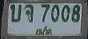txt06: (24, 4, 34, 23)
txt21: (9, 4, 22, 23)
